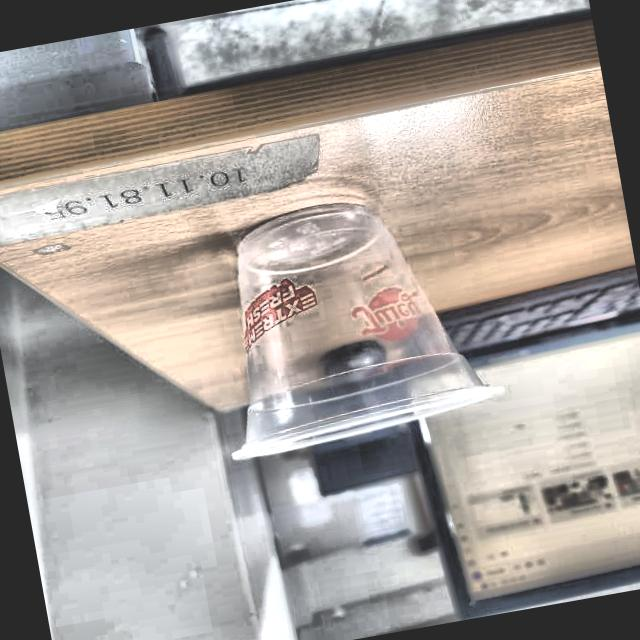plastic cup: (186, 180, 509, 465)
